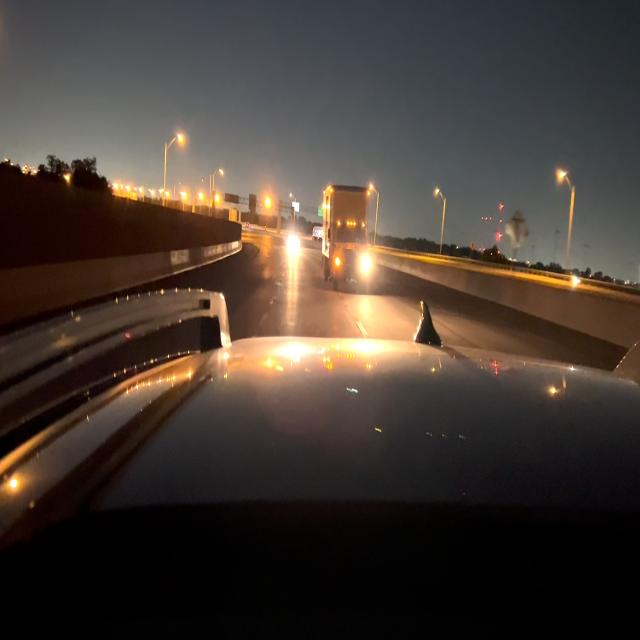back-of-sign: (506, 211, 528, 252)
